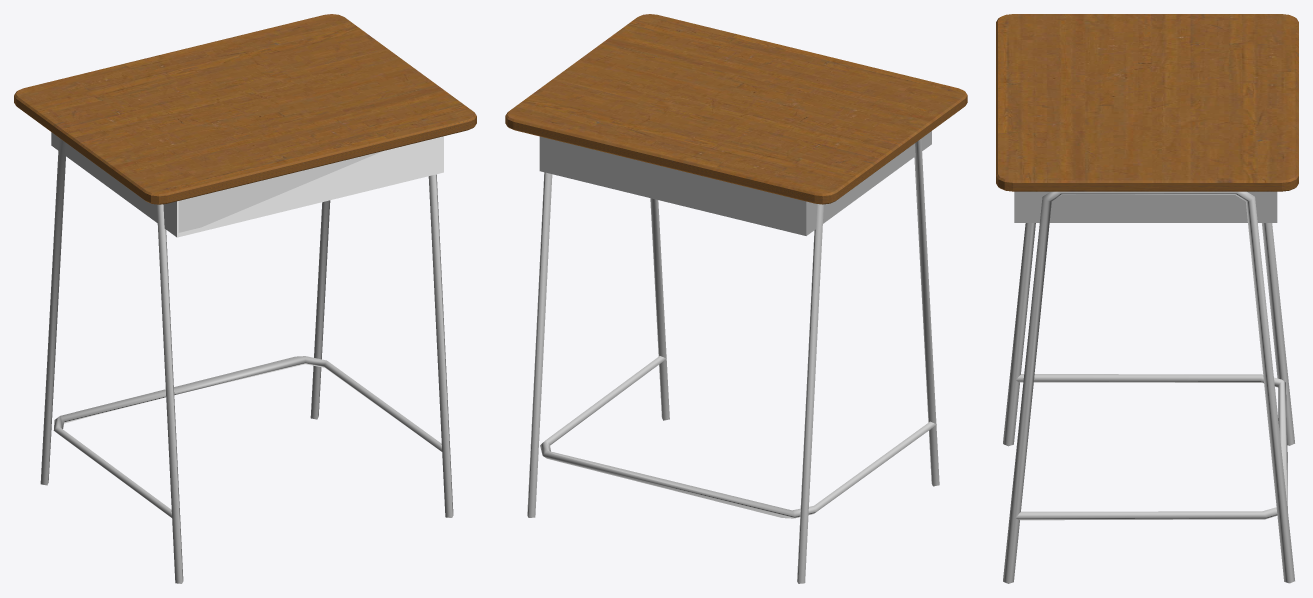
3 views of the same model, side by side, from view 1: azimuth 30°, elevation 25°; view 2: azimuth 150°, elevation 25°; view 3: azimuth 270°, elevation 25° (orthographic). The views are drawn at different scales.
Parts seen in each view (by area): view 1: 桌腿 .077; view 2: 桌腿 .077; view 3: 桌腿 .077.
Part boxes in pixels (bbox=[...]): 桌腿 .077: bbox=[14, 14, 476, 583]; 桌腿 .077: bbox=[505, 14, 967, 583]; 桌腿 .077: bbox=[996, 14, 1298, 583].
Size of the model in its own units: 42.68 by 49.17 by 32.52.
